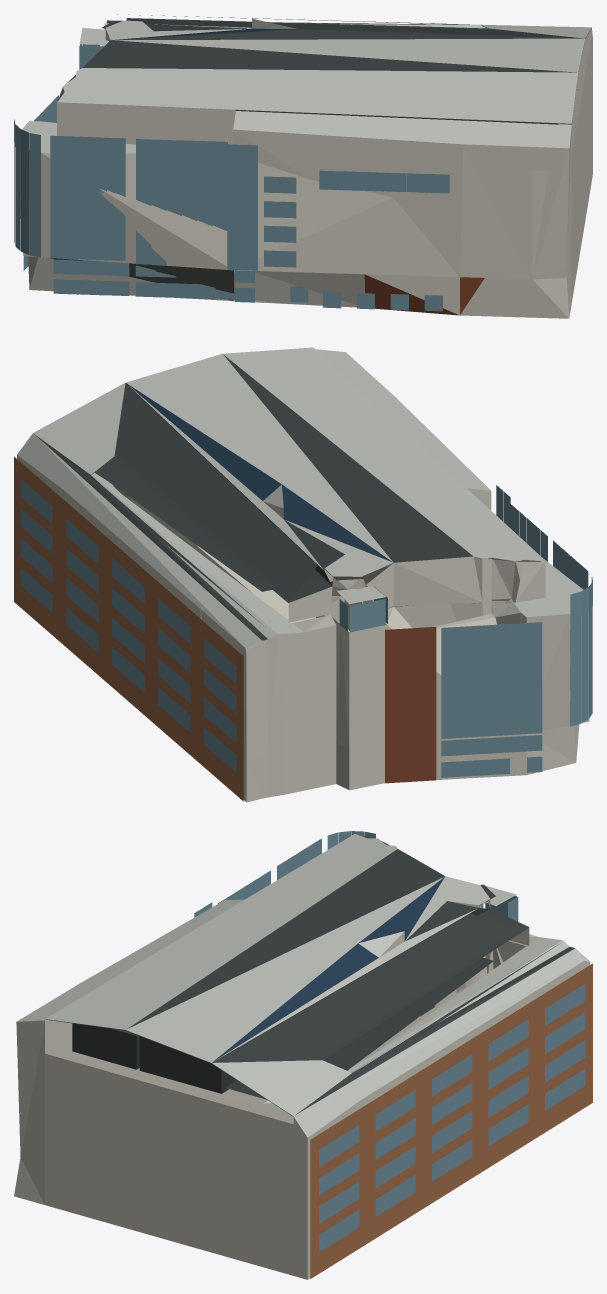
Rendered from academie-theater-dans.lod2.glb.
3 views of the same model, one above another, from view 1: azimuth 30°, elevation 25°; view 2: azimuth 150°, elevation 25°; view 3: azimuth 270°, elevation 25° (orthographic). The views are drawn at different scales.
Visible parts, largest first — view 1: lod2; view 2: lod2; view 3: lod2.
Boxes of the visible parts, x1,y1,x2,y2 form: lod2: (14,14,592,318); lod2: (14,347,592,802); lod2: (14,831,592,1279).
Size of the model in its own units: 84.54 by 28.27 by 74.07.
